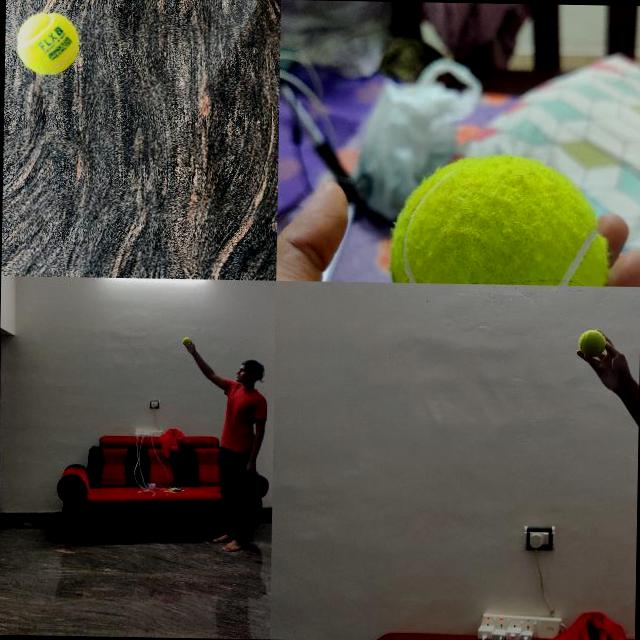Tennis Ball: (388, 151, 612, 285), (16, 12, 78, 74), (578, 328, 606, 356), (182, 336, 190, 344)
